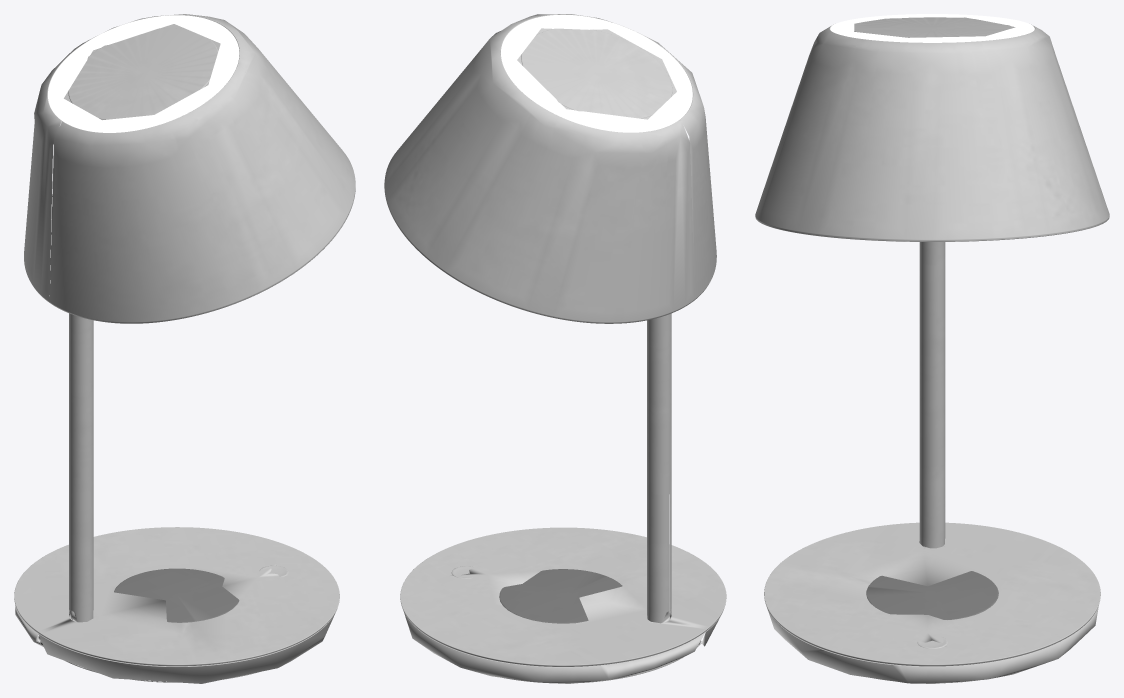
Rendered from lamp_table_bedside_a01.glb.
The picture shows the model from 3 angles, left to right: view 1: azimuth 30°, elevation 25°; view 2: azimuth 150°, elevation 25°; view 3: azimuth 270°, elevation 25°; orthographic projection. The views are drawn at different scales.
Visible parts, largest first — view 1: sm_lamp_table_bedside_a01_01; view 2: sm_lamp_table_bedside_a01_01; view 3: sm_lamp_table_bedside_a01_01.
Boxes of the visible parts, left/top/right/bottom form: sm_lamp_table_bedside_a01_01: left=14, top=14, right=355, bottom=683; sm_lamp_table_bedside_a01_01: left=384, top=14, right=726, bottom=683; sm_lamp_table_bedside_a01_01: left=755, top=14, right=1109, bottom=683.
Size of the model in its own units: 0.1981 by 0.3716 by 0.1988.
6 materials, 5 textured.
